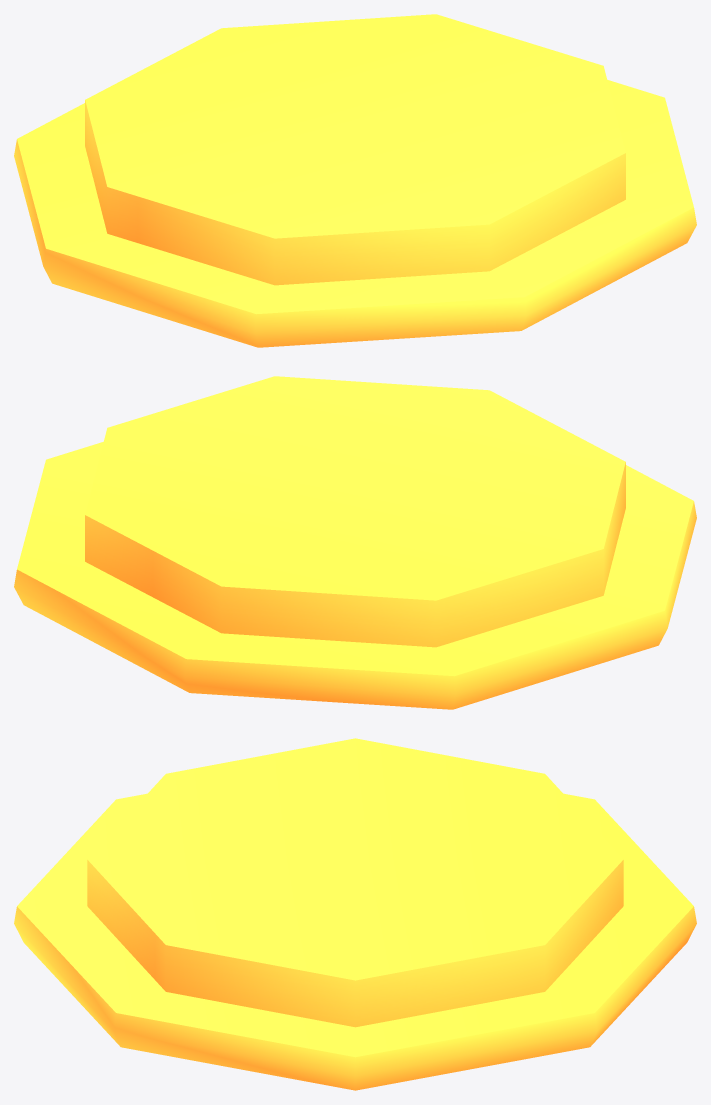
The model's file is gold_guard_019.glb.
3 renders of one model, top to bottom at view 1: azimuth 30°, elevation 25°; view 2: azimuth 150°, elevation 25°; view 3: azimuth 270°, elevation 25°, orthographic.
Visible parts, largest first — view 1: gold_guard_019; view 2: gold_guard_019; view 3: gold_guard_019.
Boxes of the visible parts, bbox=[...] form: gold_guard_019: bbox=[14, 14, 696, 347]; gold_guard_019: bbox=[14, 376, 696, 709]; gold_guard_019: bbox=[14, 738, 696, 1090].
Bounding box in the file's own units: 5.19 × 0.6605 × 4.92.
Materials: 1 (1 with a texture image).
